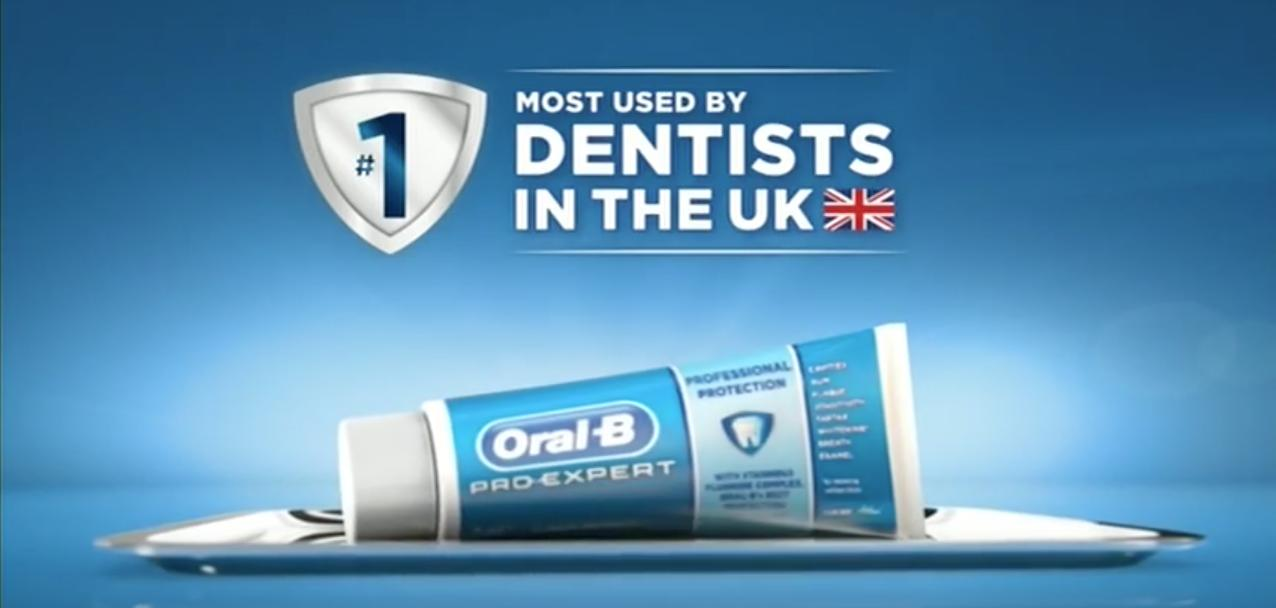toothpaste: (319, 313, 974, 574)
